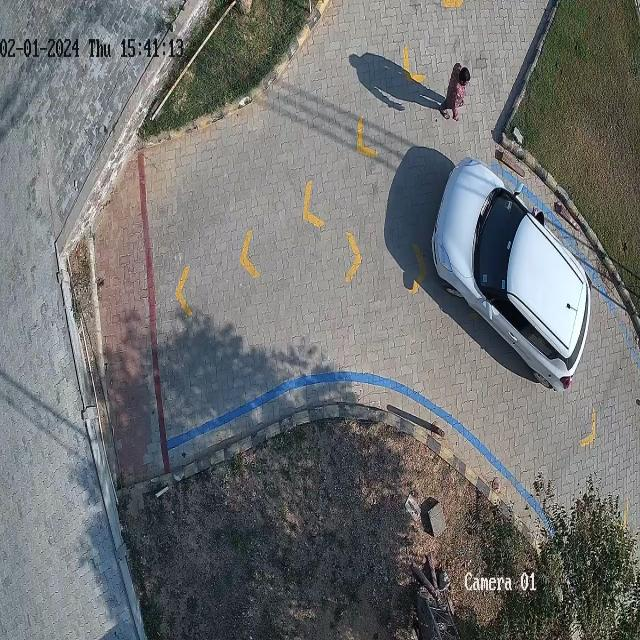car: (431, 155, 595, 392)
